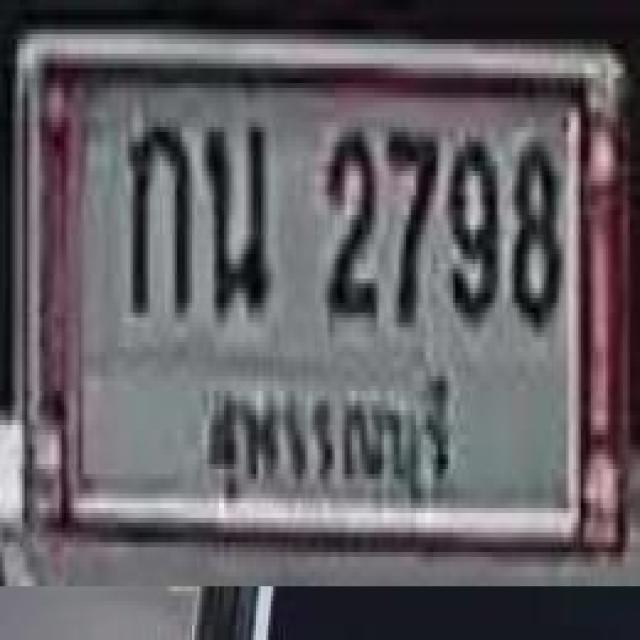license_plate: (9, 25, 628, 559)
